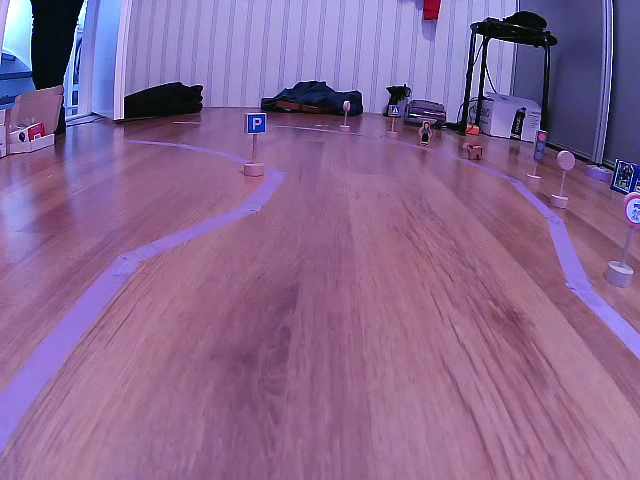parkeerbord: (244, 112, 268, 136)
roodlicht: (532, 128, 547, 161)
